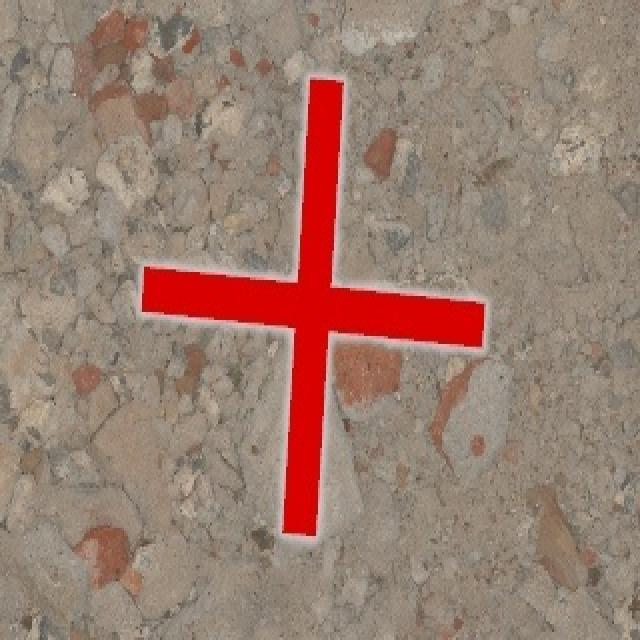x_marker: (139, 76, 485, 537)
